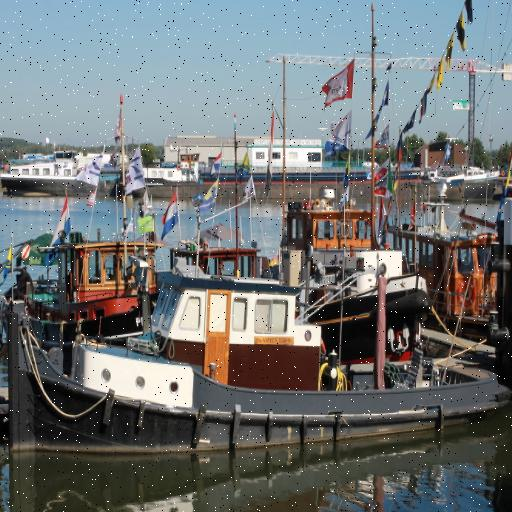tugboat: (4, 111, 512, 461)
